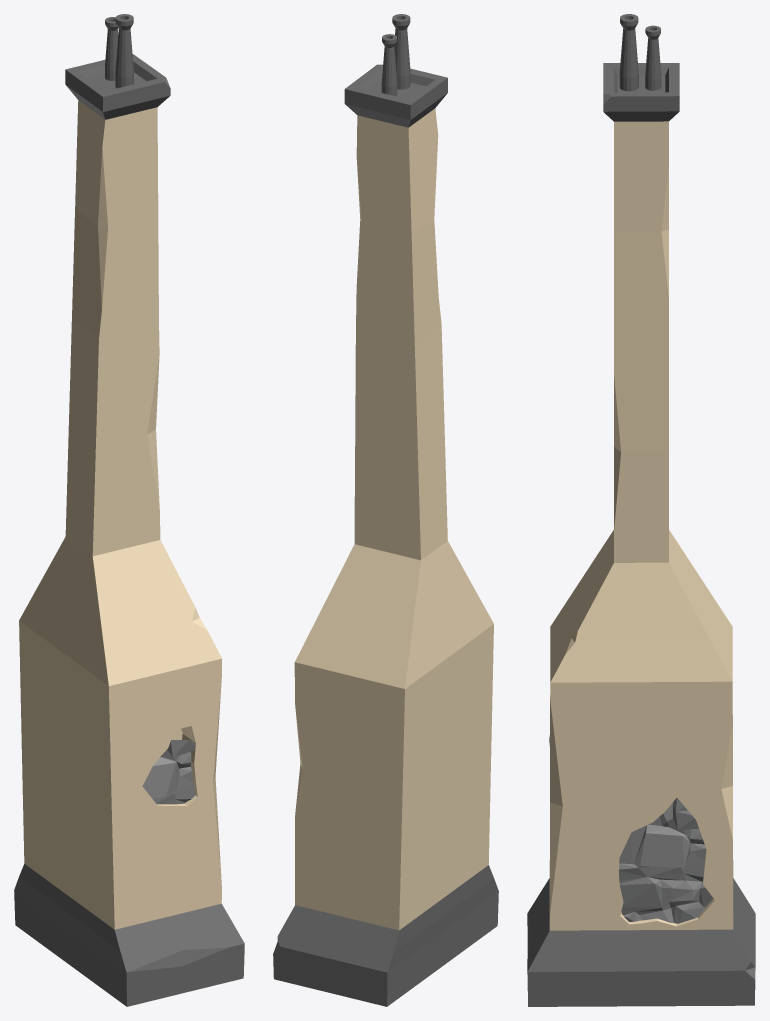
Rendered from SFHW_Building_Chemney_1.fbx.
3 views of the same model, side by side, from view 1: azimuth 30°, elevation 25°; view 2: azimuth 150°, elevation 25°; view 3: azimuth 270°, elevation 25° (orthographic). The views are drawn at different scales.
Parts seen in each view (by area): view 1: SFHW_Building_Chemney_1; view 2: SFHW_Building_Chemney_1; view 3: SFHW_Building_Chemney_1.
Part boxes in pixels (box(x1,y1,x2,y2)): SFHW_Building_Chemney_1: box(14, 14, 244, 1006); SFHW_Building_Chemney_1: box(273, 14, 498, 1006); SFHW_Building_Chemney_1: box(527, 14, 755, 1006).
Size of the model in its own units: 290 by 2091 by 453.
